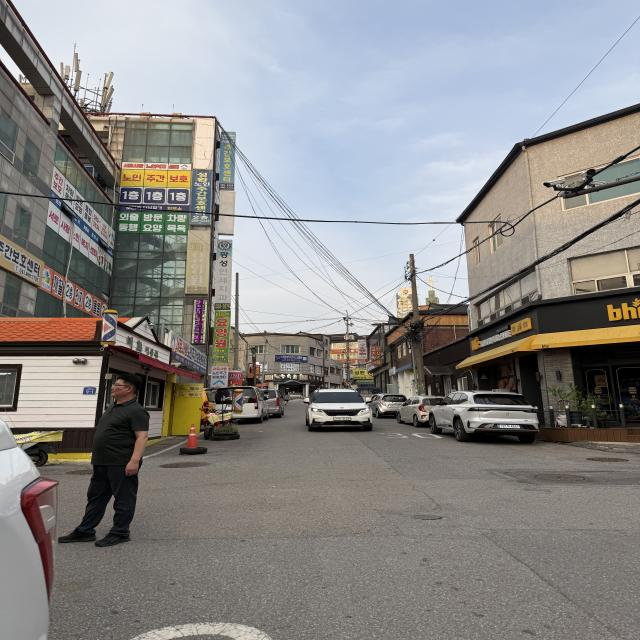car: (0, 410, 75, 640), (437, 388, 531, 442), (305, 384, 383, 439), (202, 383, 272, 423), (393, 395, 431, 426), (252, 387, 286, 421)
